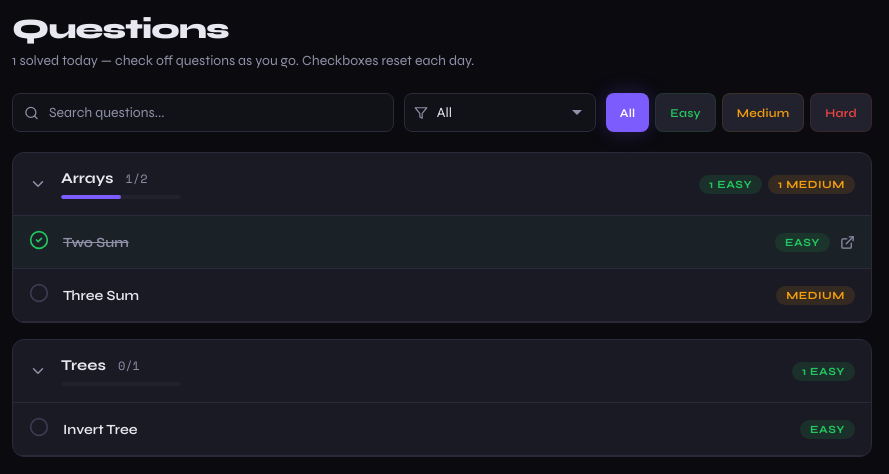
Test: QuestionsPage › filters by topic
This screenshot has width=889, height=474.
Select "Trees" in the dropdown showing "All" at (500, 112), box [404,93,596,132]
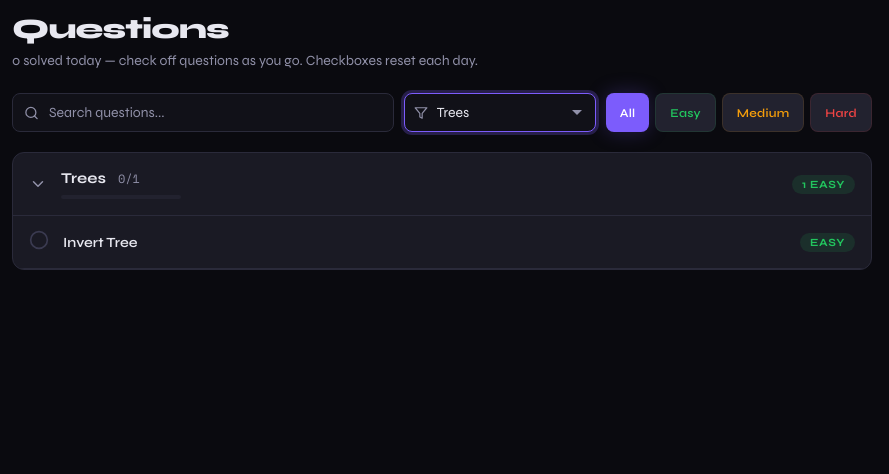
Expected: the text "Two Sum" is not shown
